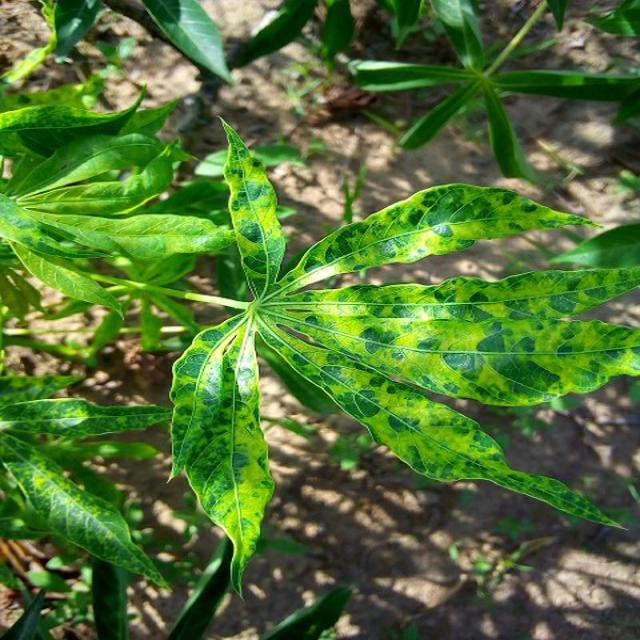cassava leaf: (166, 114, 638, 599), (166, 310, 276, 598)
